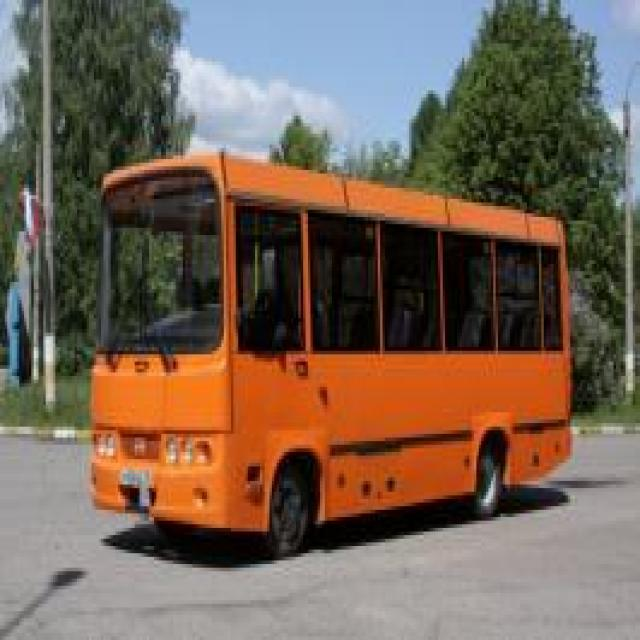bus: (88, 146, 576, 558)
